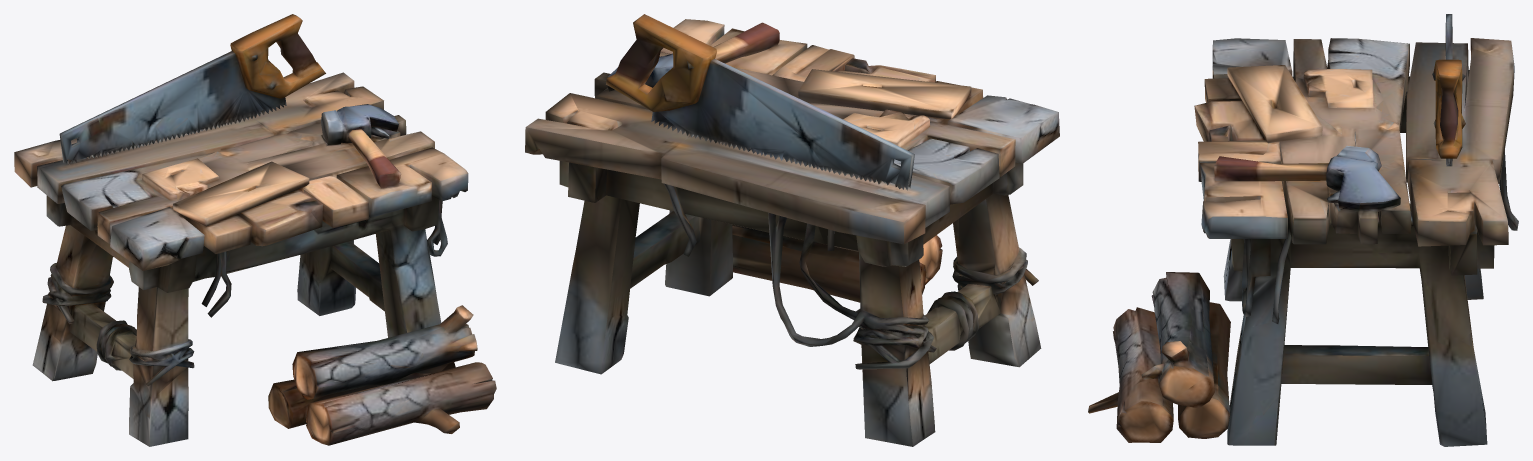
Rendered from mugongtai-1.glb.
3 views of the same model, side by side, from view 1: azimuth 30°, elevation 25°; view 2: azimuth 150°, elevation 25°; view 3: azimuth 270°, elevation 25° (orthographic). The views are drawn at different scales.
Parts seen in each view (by area): view 1: node_0; view 2: node_0; view 3: node_0.
Part boxes in pixels (x1,y1,x2,y2): node_0: (14, 14, 496, 446); node_0: (525, 14, 1059, 446); node_0: (1088, 14, 1518, 446).
Size of the model in its own units: 0.794 by 0.6909 by 0.7876.
1 material, 1 textured.
